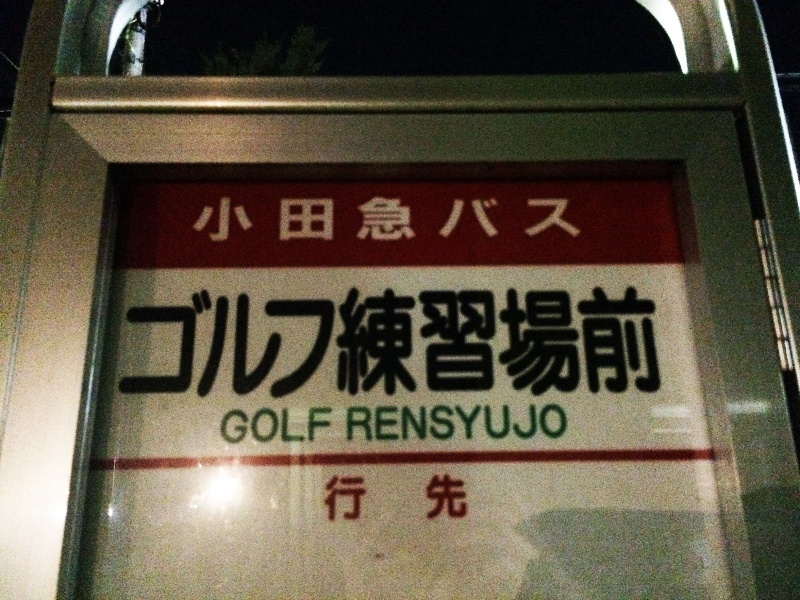text: (129, 283, 144, 409), (145, 283, 160, 409), (161, 283, 176, 409), (177, 283, 192, 409), (193, 283, 208, 409), (209, 283, 224, 409), (225, 283, 240, 409), (241, 283, 256, 409), (257, 283, 272, 409), (273, 283, 288, 409), (289, 283, 304, 409), (305, 283, 320, 409), (321, 283, 336, 409), (337, 283, 352, 409), (353, 283, 368, 409), (369, 283, 384, 409), (385, 283, 400, 409), (401, 283, 416, 409), (417, 283, 432, 409), (433, 283, 448, 409), (449, 283, 464, 409), (465, 283, 480, 409), (481, 283, 496, 409), (497, 283, 512, 409), (513, 283, 528, 409), (529, 283, 544, 409), (545, 283, 560, 409), (561, 283, 576, 409), (577, 283, 592, 409), (593, 283, 608, 409), (609, 283, 624, 409), (625, 283, 640, 409), (641, 283, 656, 409), (657, 283, 668, 409), (122, 283, 128, 409), (337, 473, 352, 523), (353, 473, 368, 523), (369, 473, 384, 523), (385, 473, 400, 523), (401, 473, 416, 523), (417, 473, 432, 523), (433, 473, 448, 523), (449, 473, 464, 523), (193, 196, 208, 243), (209, 196, 224, 243), (225, 196, 240, 243), (241, 196, 256, 243), (257, 196, 272, 243), (273, 196, 288, 243), (289, 196, 304, 243), (305, 196, 320, 243), (321, 196, 336, 243), (337, 196, 352, 243), (353, 196, 368, 243), (369, 196, 384, 243), (385, 196, 400, 243), (401, 196, 416, 243), (417, 196, 432, 243), (433, 196, 448, 243), (449, 196, 464, 243), (465, 196, 480, 243), (481, 196, 496, 243), (497, 196, 512, 243), (513, 196, 528, 243), (529, 196, 544, 243), (545, 196, 560, 243), (561, 196, 576, 243), (322, 473, 336, 523), (353, 404, 368, 444), (369, 404, 384, 444), (385, 404, 400, 444), (401, 404, 416, 444), (417, 404, 432, 444), (433, 404, 448, 444), (449, 404, 464, 444), (465, 404, 480, 444), (481, 404, 496, 444), (497, 404, 512, 444), (513, 404, 528, 444), (529, 404, 544, 444), (545, 404, 560, 444), (225, 408, 240, 445), (241, 408, 256, 445), (257, 408, 272, 445), (273, 408, 288, 445), (289, 408, 304, 445), (305, 408, 320, 445), (321, 408, 332, 445), (465, 473, 473, 523), (561, 404, 569, 444), (577, 196, 582, 243), (348, 404, 352, 444), (222, 408, 224, 445)
